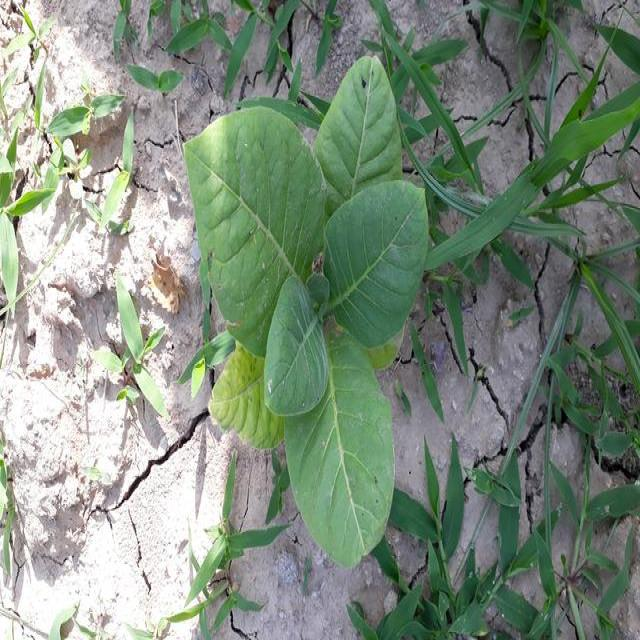crop: (190, 63, 434, 555)
